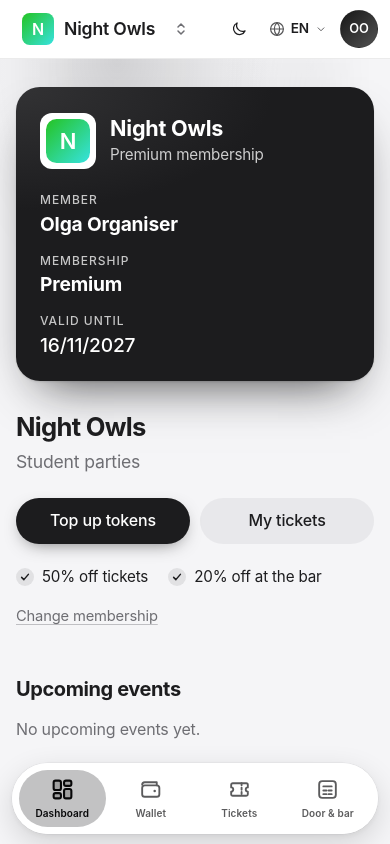
Test: organisation tabs › adds the door and bar for staff, and managing for admins
Check: the link "Door & bar" is shown, box [302, 777, 354, 819]
Check: the link "Manage" is not shown
Click the button named "Switch organisation". click: [181, 29]
box: [167, 13, 195, 45]
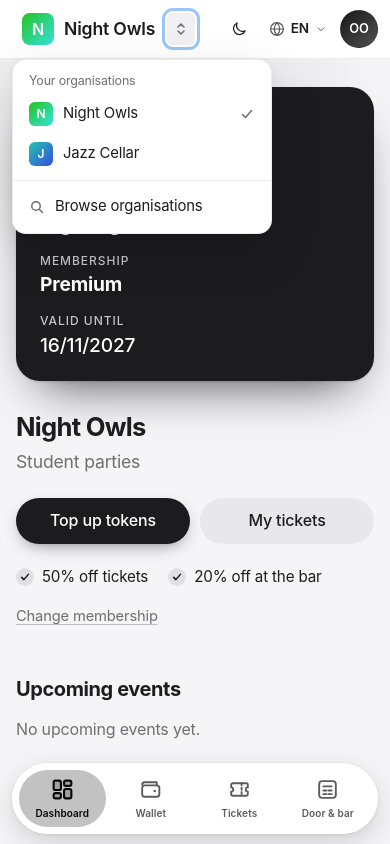
Click the link "J Jazz Cellar". click: [84, 154]
box: [29, 142, 139, 166]
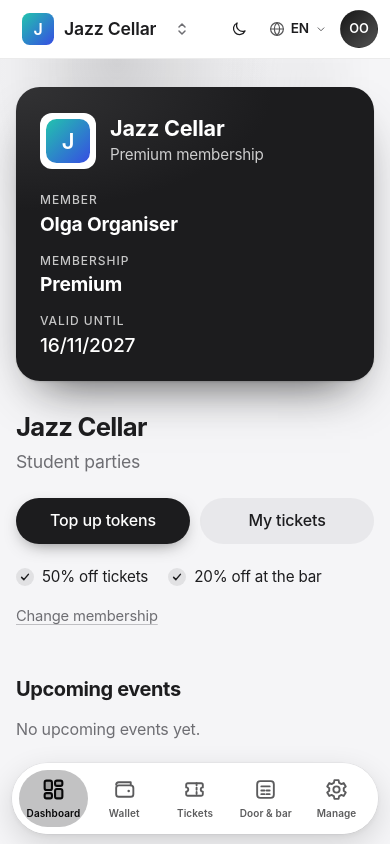
Check: the link "Manage" is shown, box [317, 777, 356, 819]
